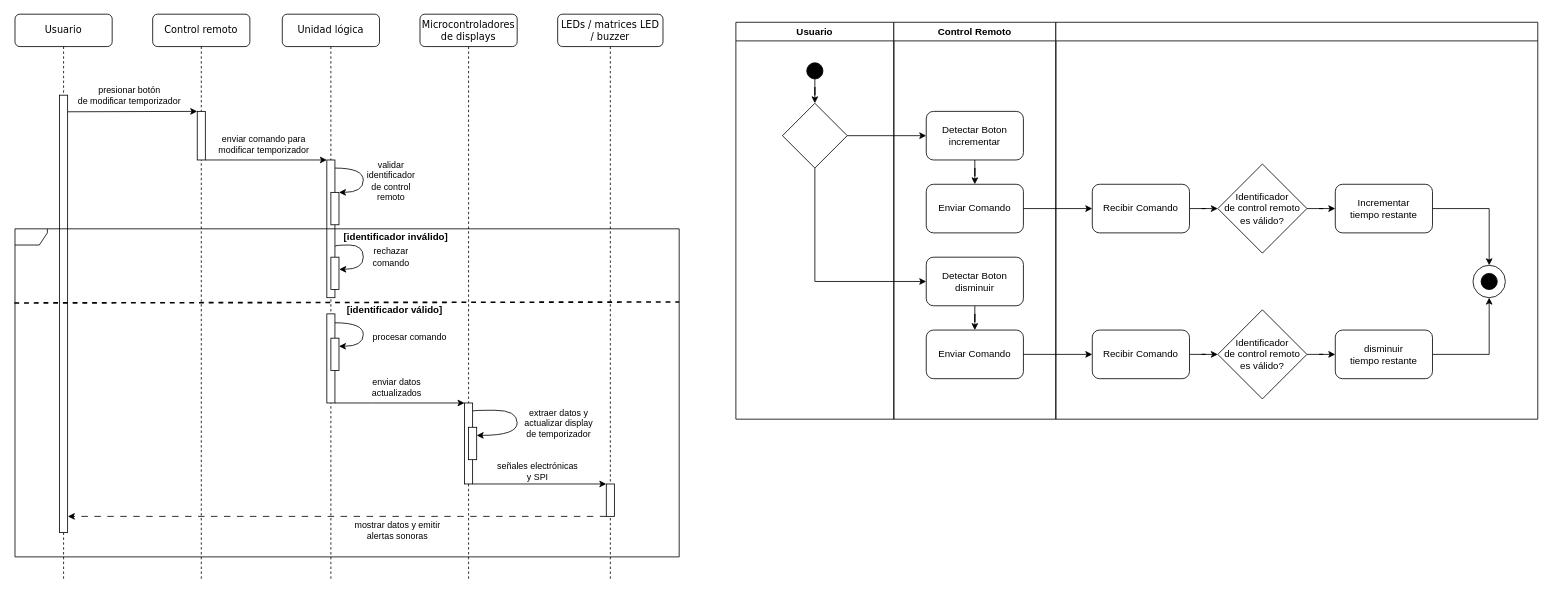
Image size: 1553x595. Some labels were removed from this diagram. Here are the shapes that lost their labels. From the top down, the box of each, then its label:
(782, 102, 847, 168): Incrementar o disminuir
(1055, 21, 1538, 419): Máquina de puntaje
(14, 228, 679, 557): alt
